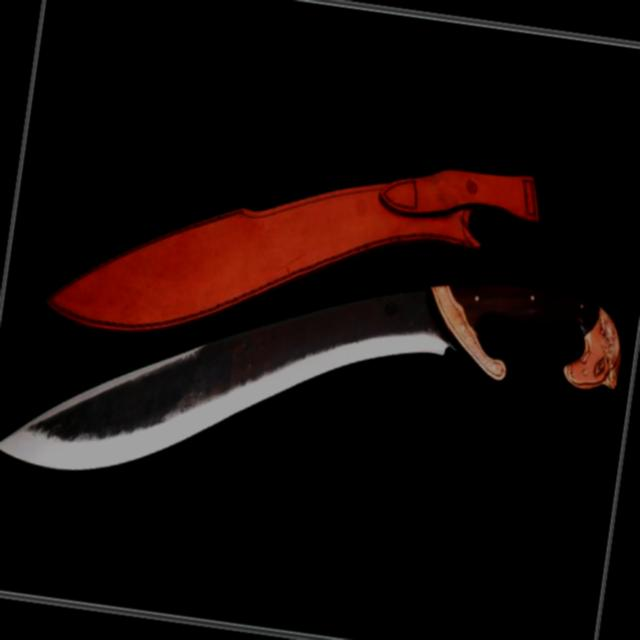short sword: (0, 209, 636, 571)
